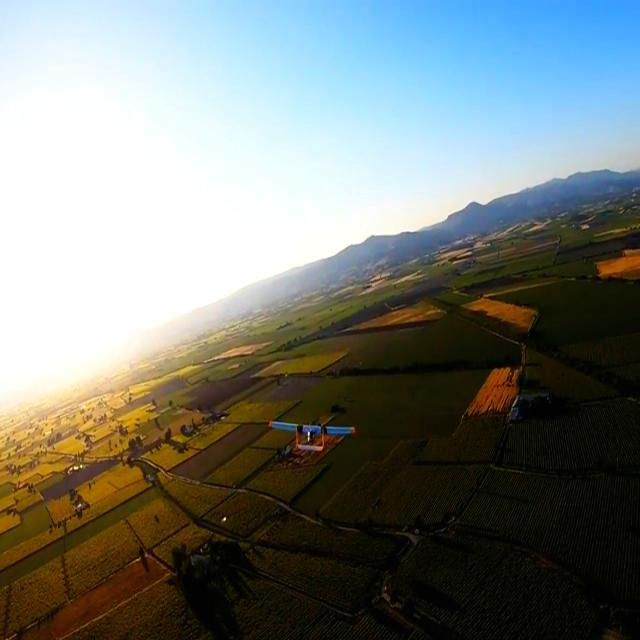iha: (296, 414, 328, 457)
